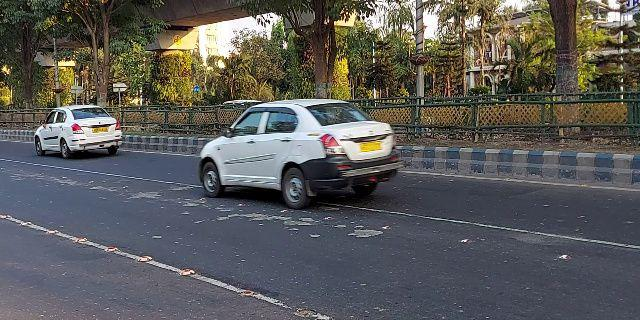Car: (197, 95, 400, 213), (31, 102, 127, 159)
